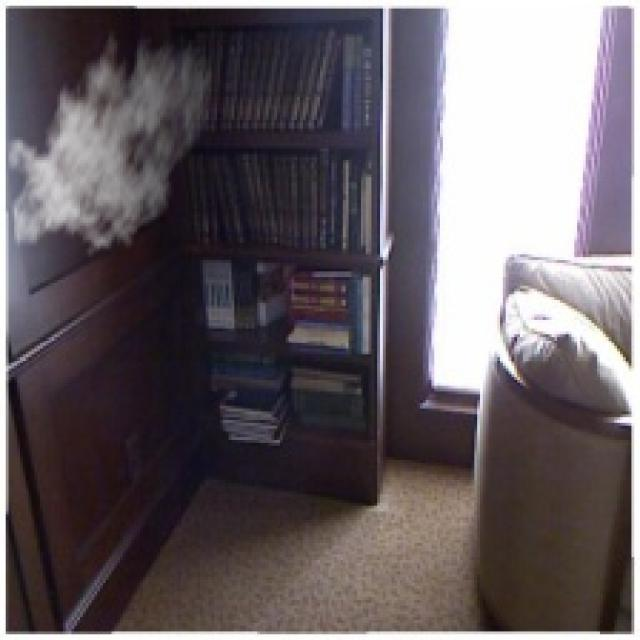smoke: (6, 20, 214, 260)
